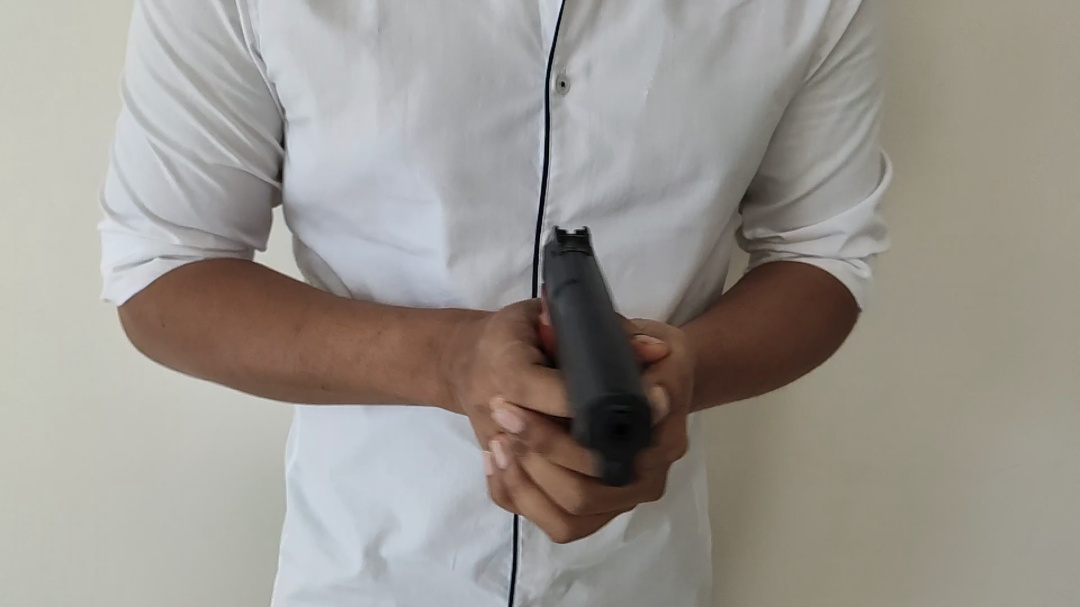gun: (537, 225, 652, 481)
